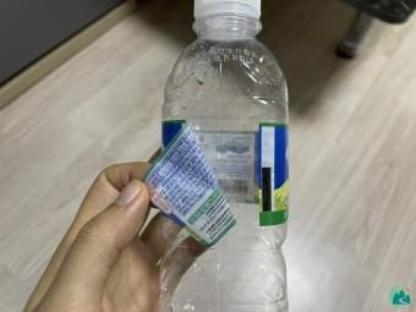Plastic Bottle: (144, 0, 306, 312)
